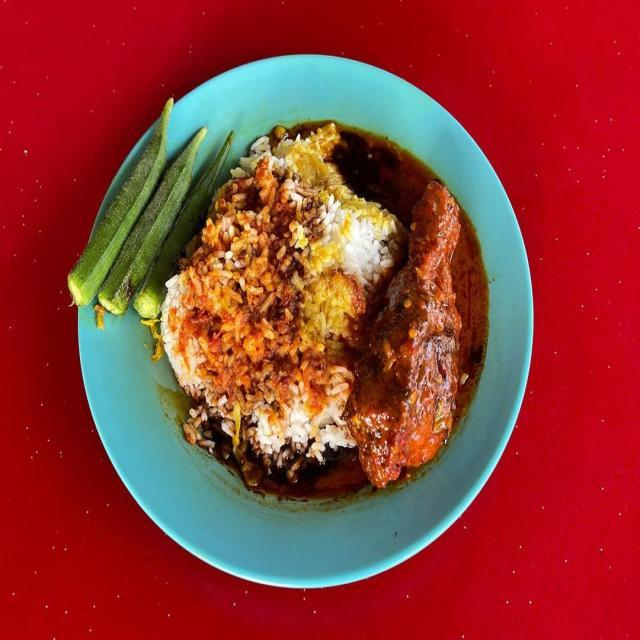Chicken: (338, 177, 466, 487)
Plate: (79, 55, 533, 587)
Rice: (159, 119, 409, 485)
Vegetables: (67, 100, 233, 325)
